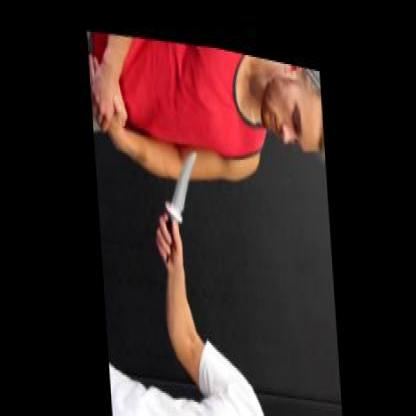knife: (148, 128, 205, 263)
